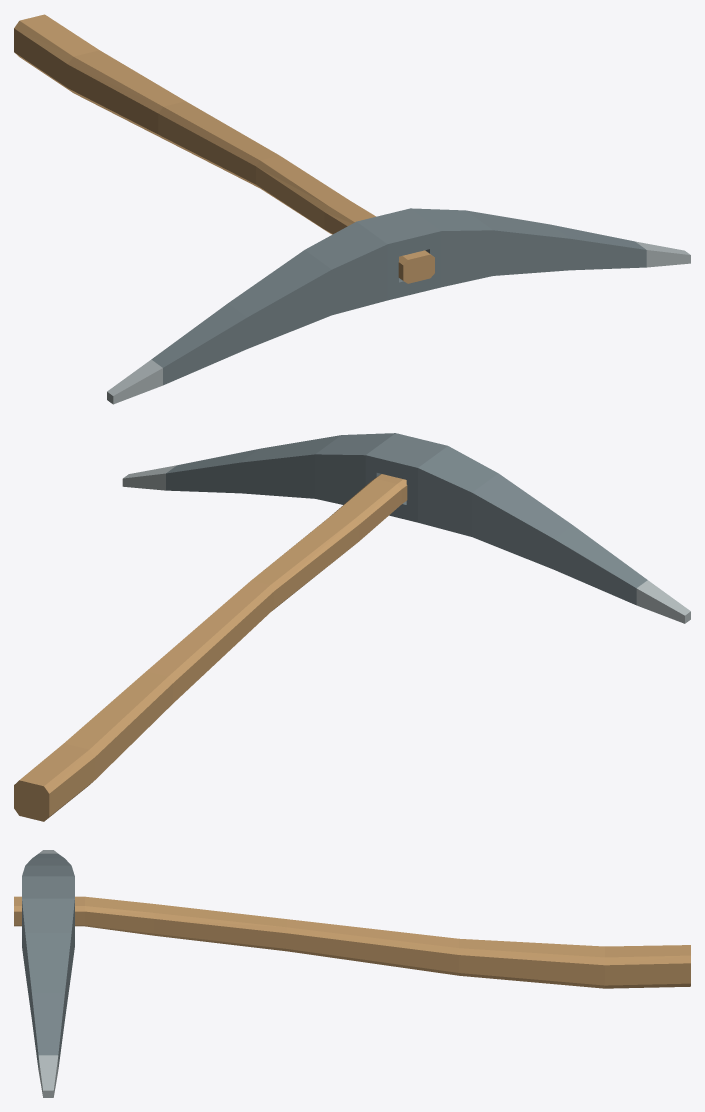
3 views of the same model, one above another, from view 1: azimuth 30°, elevation 25°; view 2: azimuth 150°, elevation 25°; view 3: azimuth 270°, elevation 25° (orthographic). The views are drawn at different scales.
Visible parts, largest first — view 1: WholeBoredTwinPointCurvedHead, WholeBowedWoodenShaftAndGrip; view 2: WholeBoredTwinPointCurvedHead, WholeBowedWoodenShaftAndGrip; view 3: WholeBowedWoodenShaftAndGrip, WholeBoredTwinPointCurvedHead.
Boxes of the visible parts, bbox=[...] form: WholeBoredTwinPointCurvedHead: bbox=[107, 208, 690, 404]; WholeBowedWoodenShaftAndGrip: bbox=[14, 14, 434, 283]; WholeBoredTwinPointCurvedHead: bbox=[122, 433, 690, 623]; WholeBowedWoodenShaftAndGrip: bbox=[14, 474, 407, 821]; WholeBowedWoodenShaftAndGrip: bbox=[14, 896, 690, 988]; WholeBoredTwinPointCurvedHead: bbox=[22, 850, 74, 1097].
Bounding box in the file's own units: 0.86 × 0.15 × 1.02.
